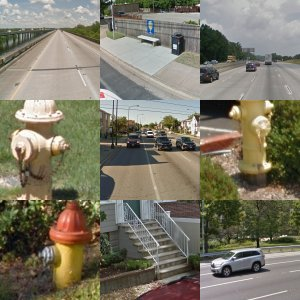公車: (1, 3, 67, 61), (24, 115, 89, 173), (136, 217, 178, 262)
棕櫚樹: (266, 217, 292, 265), (235, 233, 258, 266)
汽車: (224, 48, 285, 84), (167, 76, 190, 89)
紅綠燈: (115, 104, 178, 195)
